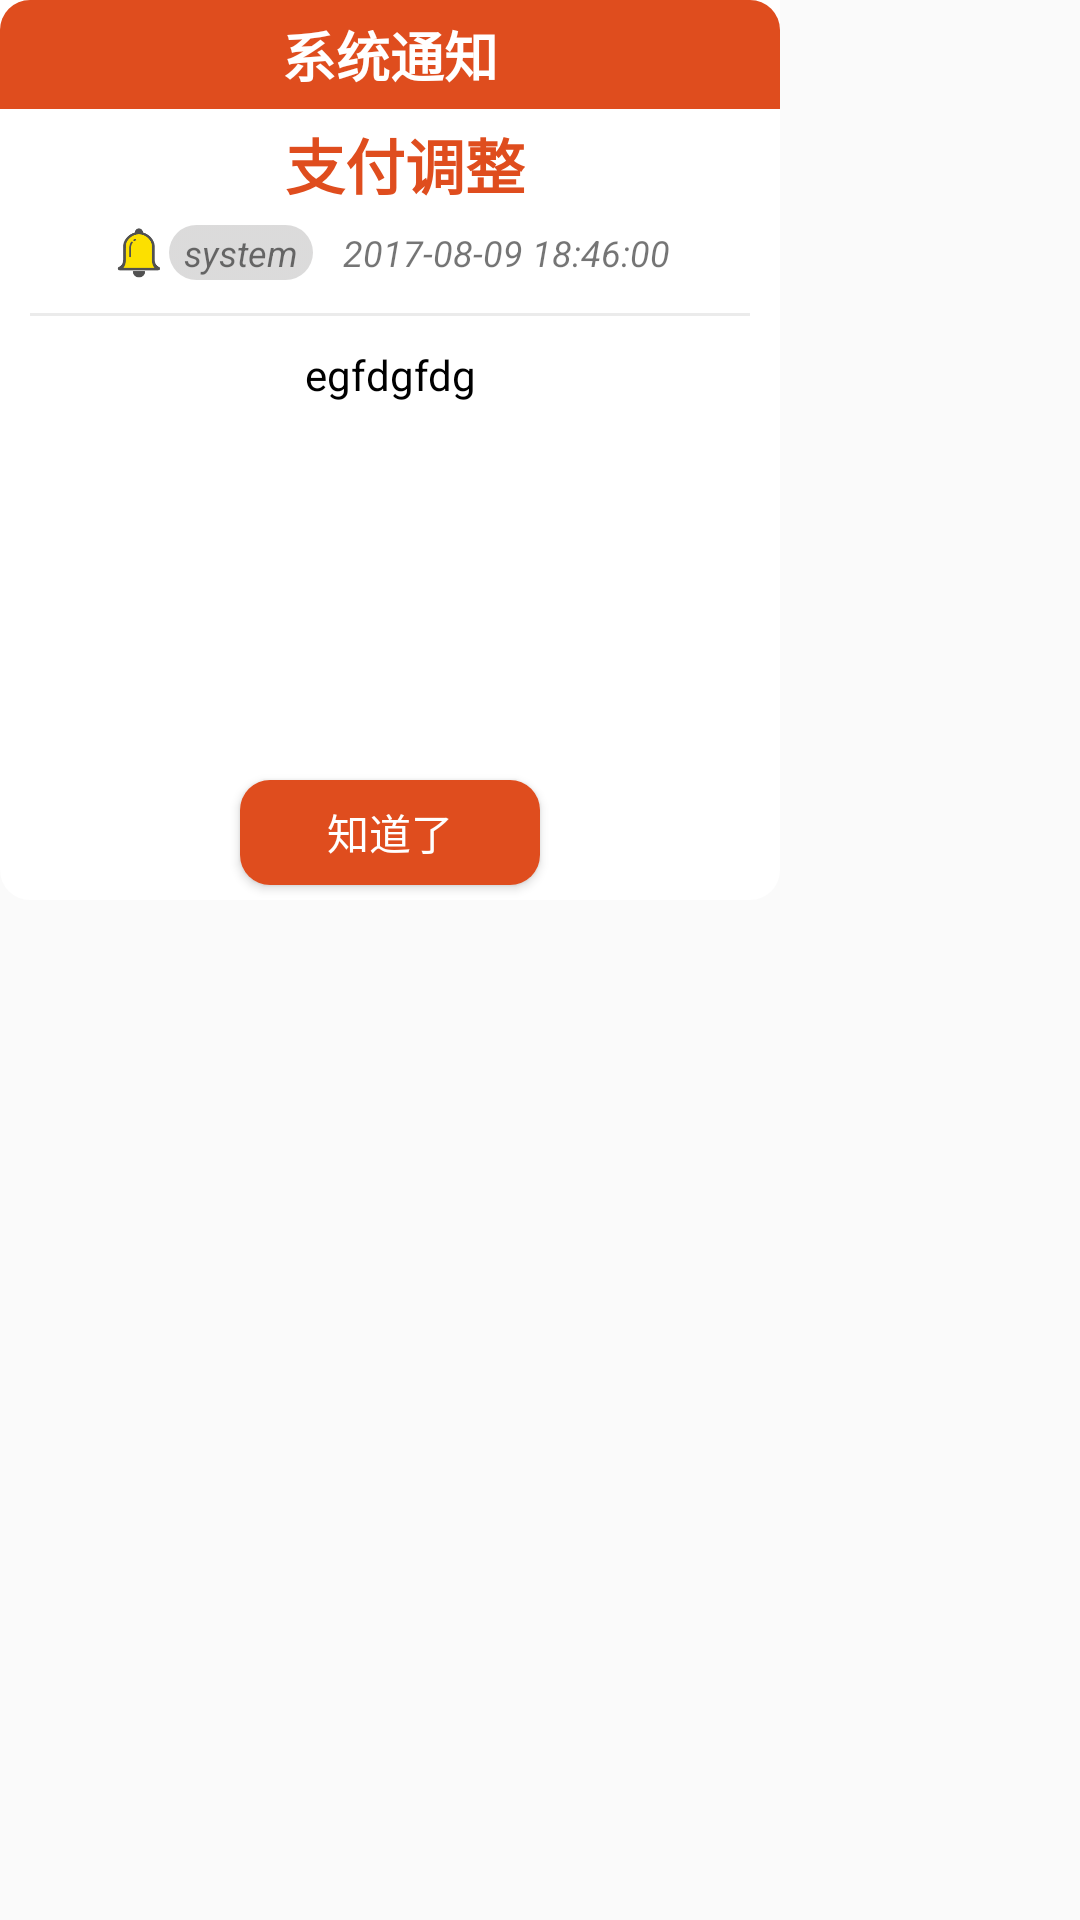

Where icons sit on this 1080 × 1920 app screen, as (x1, y1, x2, y2):
alert: (118, 228, 160, 278)
